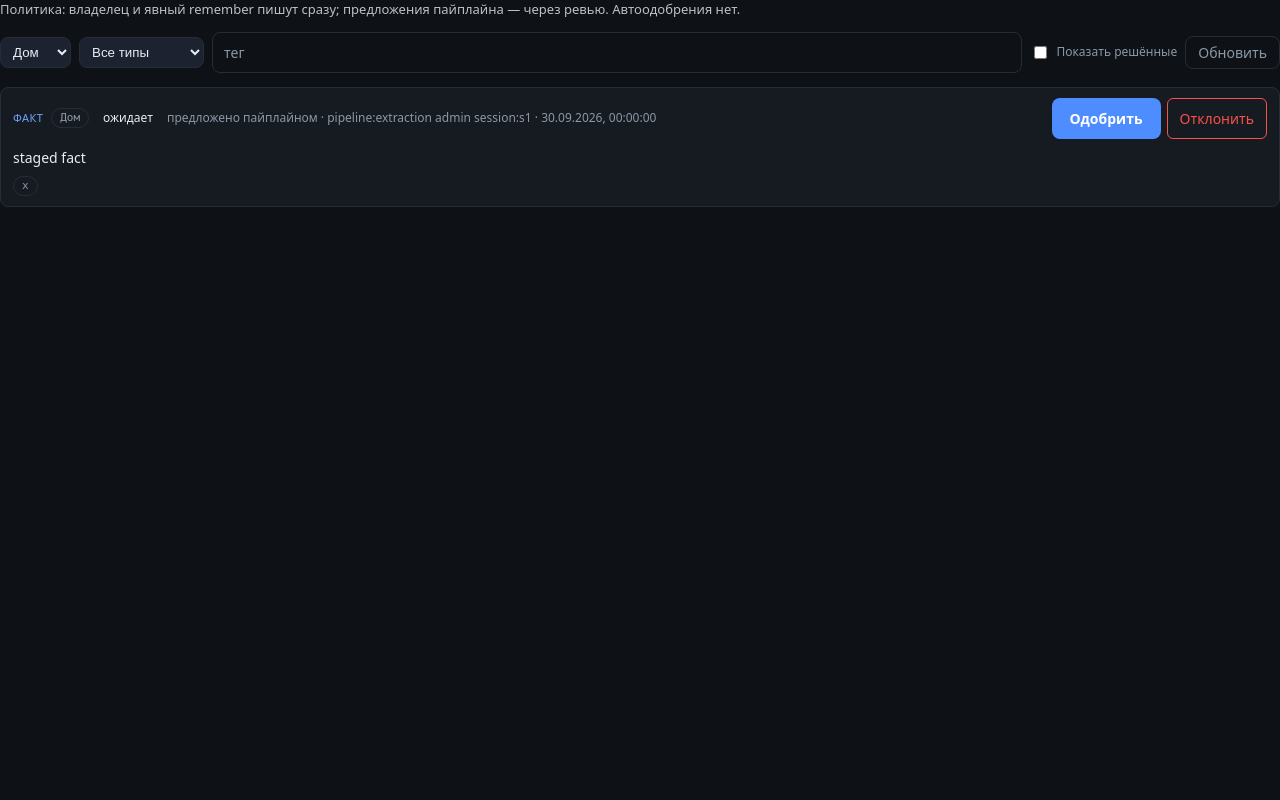
Test: MemoryReviewQueue › reports a decision once after a successful reject
The image size is (1280, 800).
What coordinates should you click on to do the following:
click the button with test id "memory-review-reject:p-1"
I would click on:
 (1217, 118)
Its box is [1166,98,1267,138].
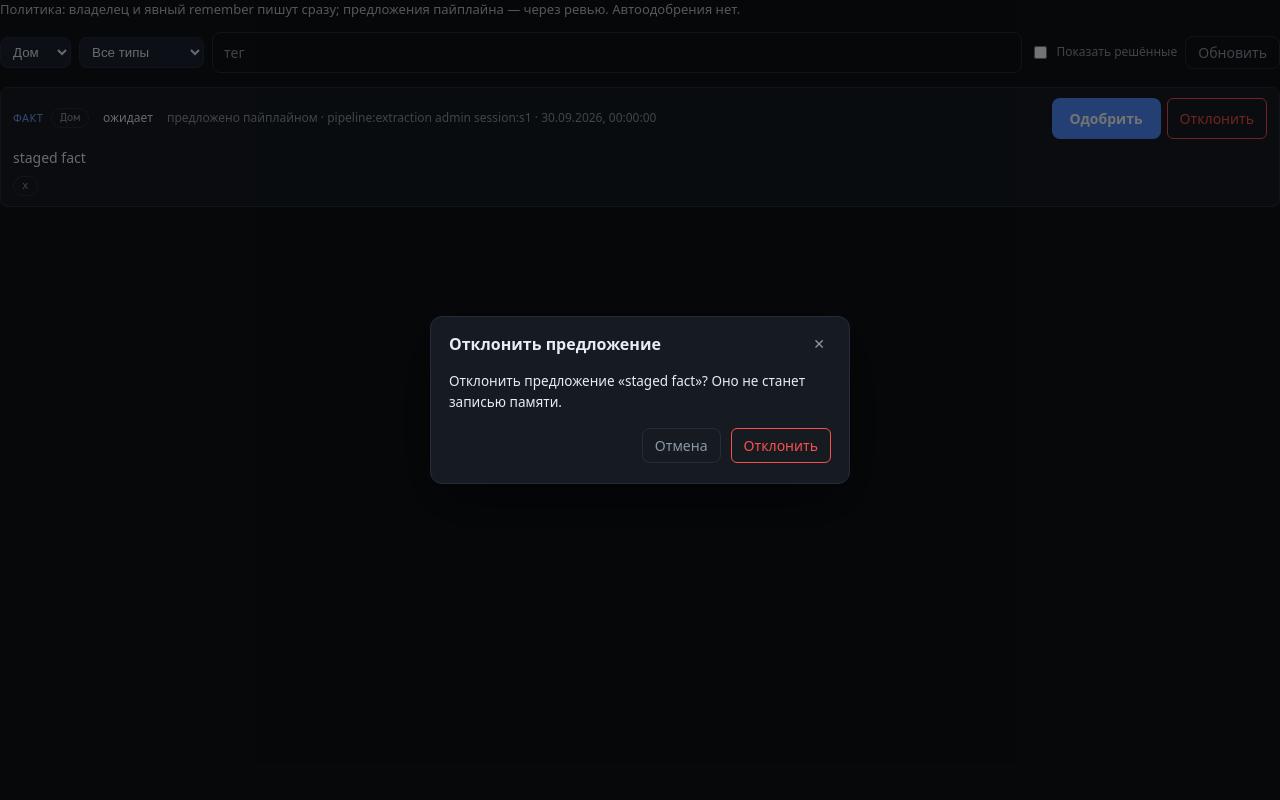
What coordinates should you click on to do the following:
click the button with test id "memory-review-reject-confirm"
I would click on:
 (781, 445)
Its box is [730,428,831,463].
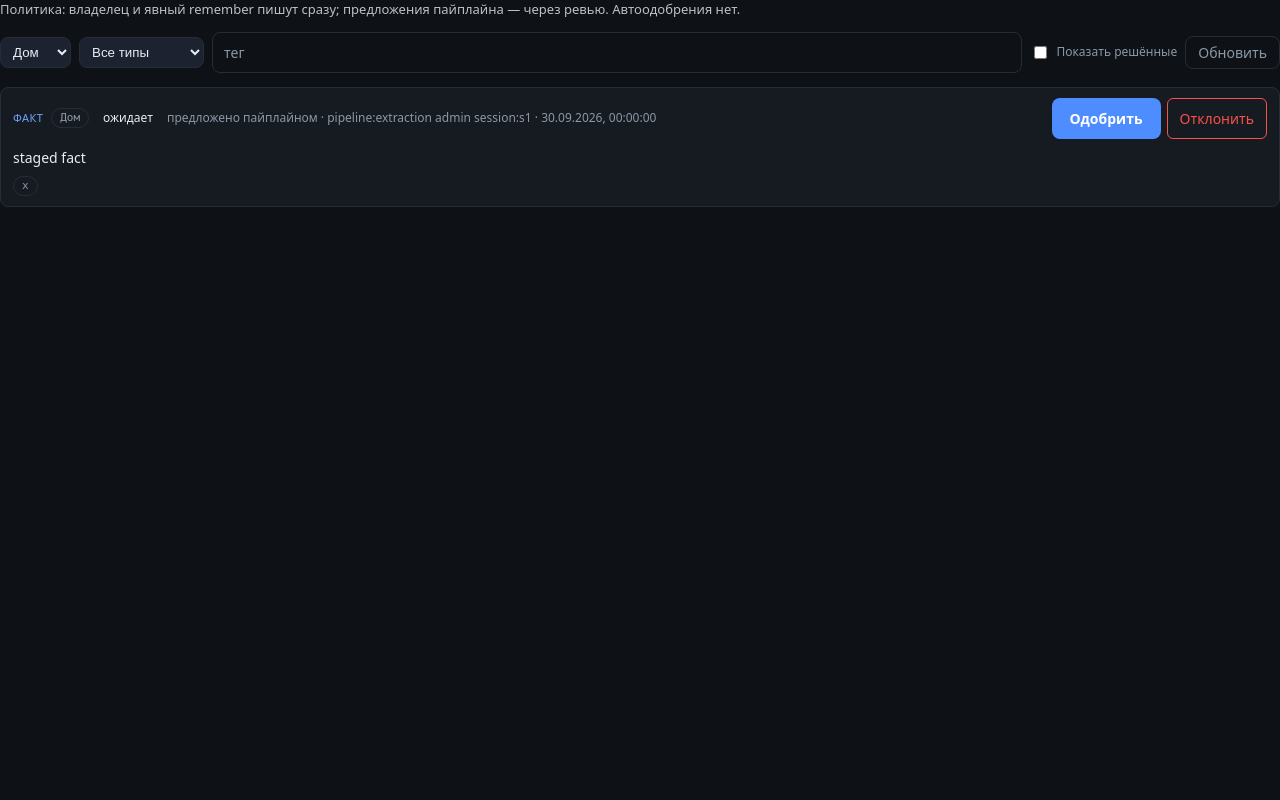
Now the button with test id "memory-review-reject-confirm" is gone
